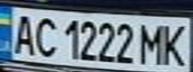1: (57, 16, 81, 61)
2: (115, 19, 139, 65), (78, 16, 100, 62), (97, 18, 118, 64)
A: (6, 10, 39, 56)
C: (30, 14, 60, 58)
K: (157, 20, 193, 68)
M: (136, 20, 169, 65)
